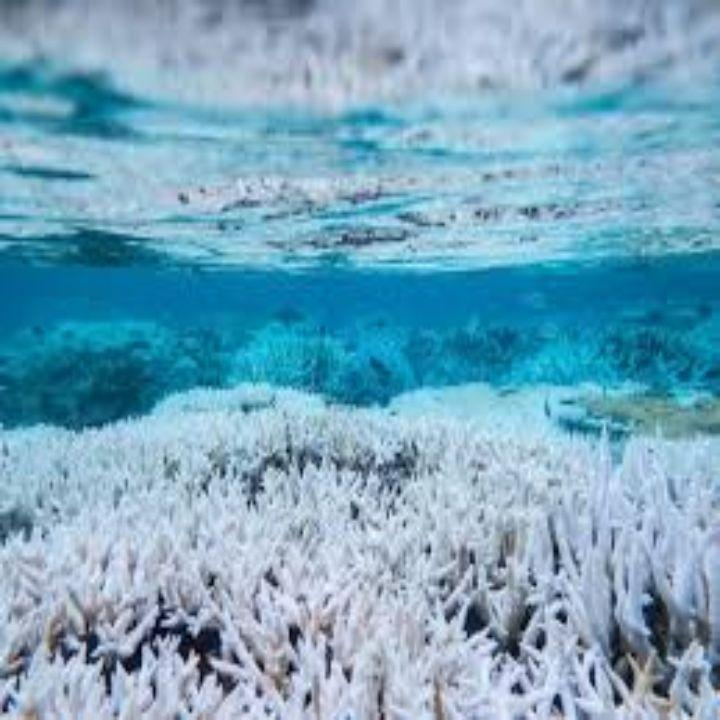Bleached disease: (2, 401, 716, 713)
